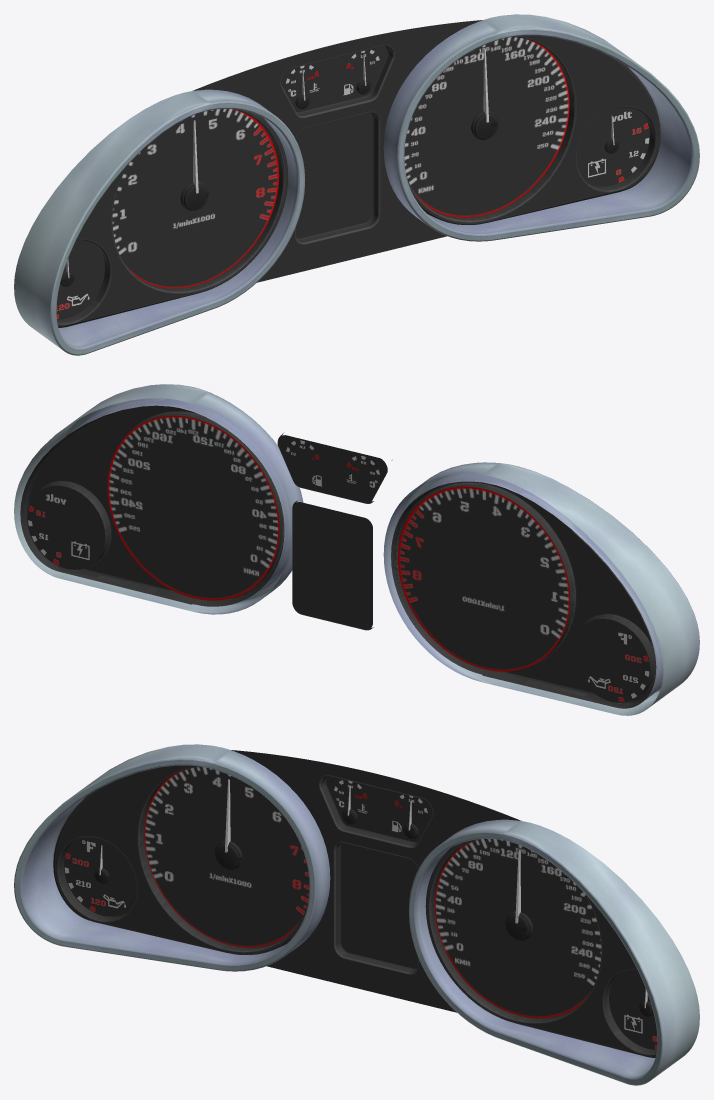
The model's file is parteeletrica.glb.
The picture shows the model from 3 angles, top to bottom: view 1: azimuth 30°, elevation 25°; view 2: azimuth 150°, elevation 25°; view 3: azimuth 330°, elevation 25°; orthographic projection.
Visible parts, largest first — view 1: RpmG, SpeedG, RightFrame, LeftFrame, GBack, RightGFrame, MainD, LeftGFrame, BatteryD, TopD, OilTempD, SpeedCursor (+1 smaller); view 2: SpeedG, RpmG, RightFrame, LeftGFrame, RightGFrame, LeftFrame, MainD, BatteryD, OilTempD, TopD; view 3: SpeedG, RpmG, LeftFrame, RightFrame, GBack, LeftGFrame, MainD, RightGFrame, OilTempD, TopD, BatteryD, RpmCursor (+1 smaller).
Part boxes in pixels (bbox=[...]): RpmG: bbox=[112, 108, 279, 288]; SpeedG: bbox=[404, 37, 569, 217]; RightFrame: bbox=[14, 89, 305, 355]; LeftFrame: bbox=[383, 14, 699, 241]; GBack: bbox=[192, 20, 482, 282]; RightGFrame: bbox=[406, 35, 660, 224]; MainD: bbox=[296, 113, 372, 238]; LeftGFrame: bbox=[57, 109, 288, 327]; BatteryD: bbox=[577, 107, 649, 186]; TopD: bbox=[281, 46, 387, 112]; OilTempD: bbox=[56, 240, 104, 319]; SpeedCursor: bbox=[471, 49, 498, 139]; SpeedG: bbox=[107, 415, 279, 600]; RpmG: bbox=[398, 486, 569, 671]; RightFrame: bbox=[383, 462, 699, 715]; LeftGFrame: bbox=[391, 481, 656, 708]; RightGFrame: bbox=[20, 405, 284, 606]; LeftFrame: bbox=[14, 384, 303, 614]; MainD: bbox=[292, 502, 372, 629]; BatteryD: bbox=[27, 485, 105, 569]; OilTempD: bbox=[572, 618, 650, 702]; TopD: bbox=[278, 435, 387, 503]; SpeedG: bbox=[434, 838, 601, 1018]; RpmG: bbox=[144, 767, 309, 947]; LeftFrame: bbox=[408, 819, 699, 1085]; RightFrame: bbox=[14, 744, 330, 971]; GBack: bbox=[231, 750, 521, 1012]; LeftGFrame: bbox=[53, 765, 307, 954]; MainD: bbox=[341, 843, 417, 968]; RightGFrame: bbox=[425, 839, 656, 1057]; OilTempD: bbox=[64, 837, 136, 916]; TopD: bbox=[326, 776, 432, 842]; BatteryD: bbox=[609, 970, 657, 1049]; RpmCursor: bbox=[215, 779, 242, 869].
Bounding box in the file's own units: 1.34 × 0.433 × 0.1531.
1 material, 1 textured.
